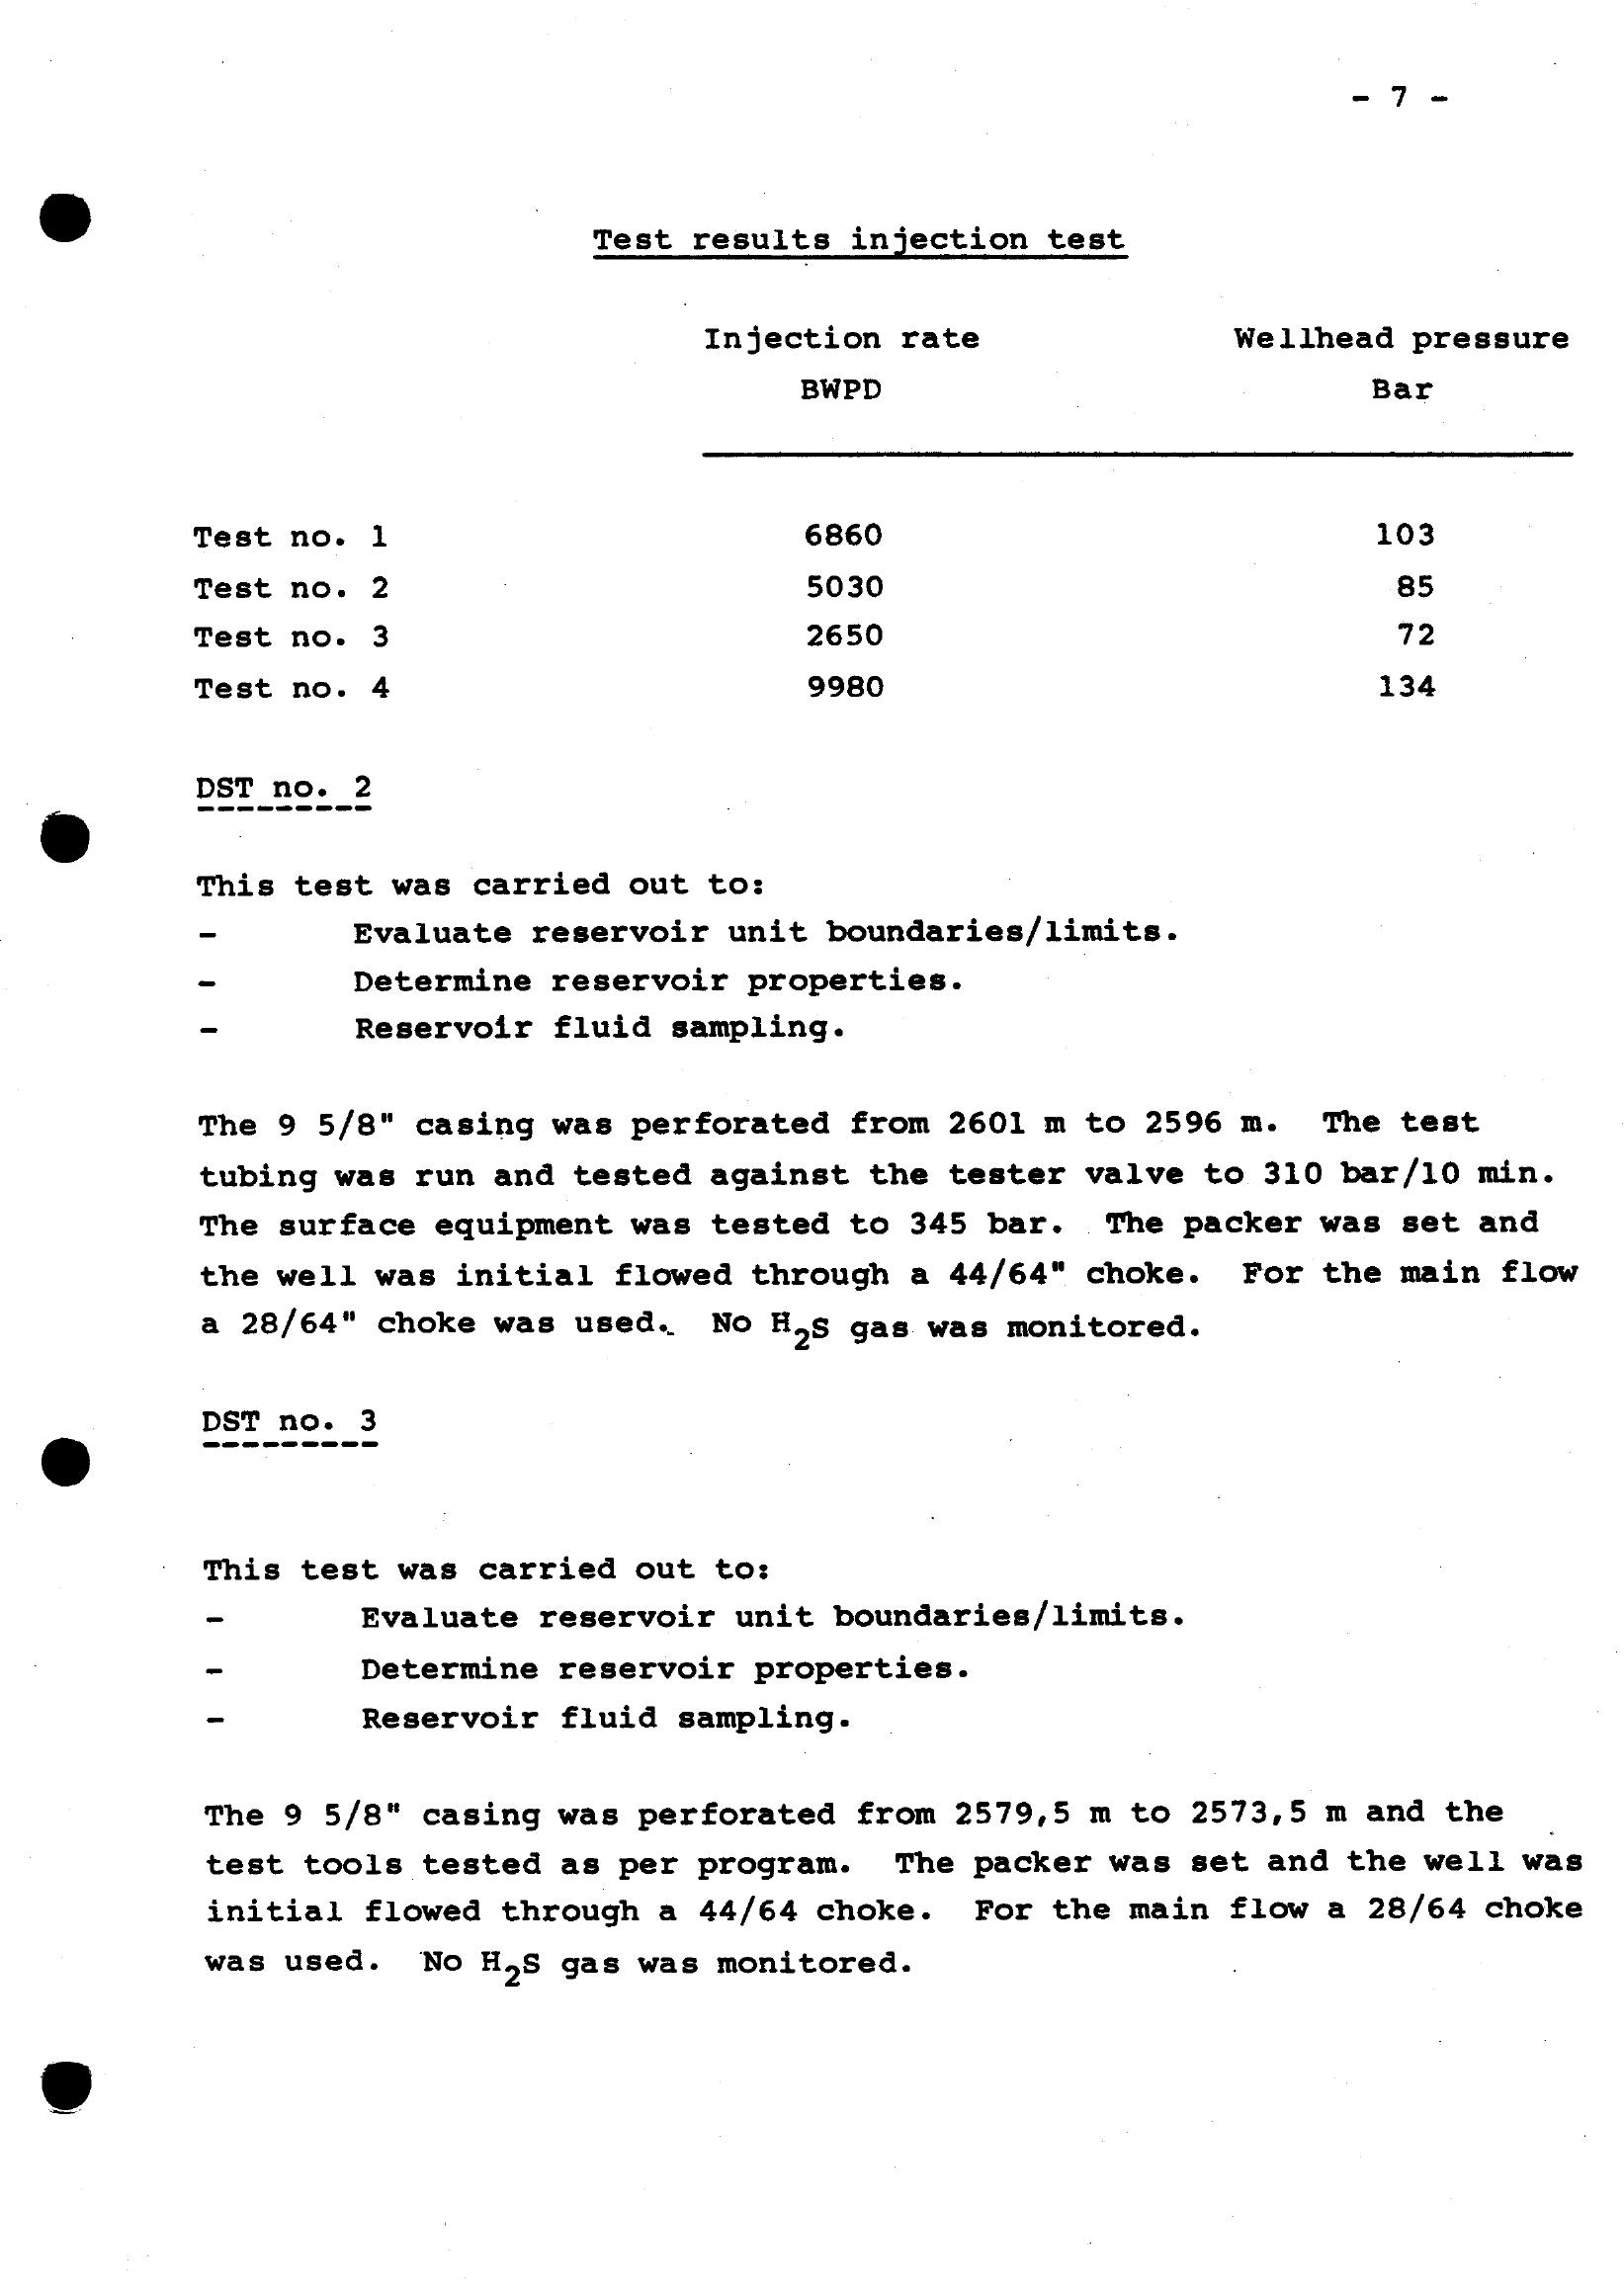table: (118, 193, 1624, 768)
text: (160, 1379, 1624, 2002), (163, 761, 1624, 1355)
